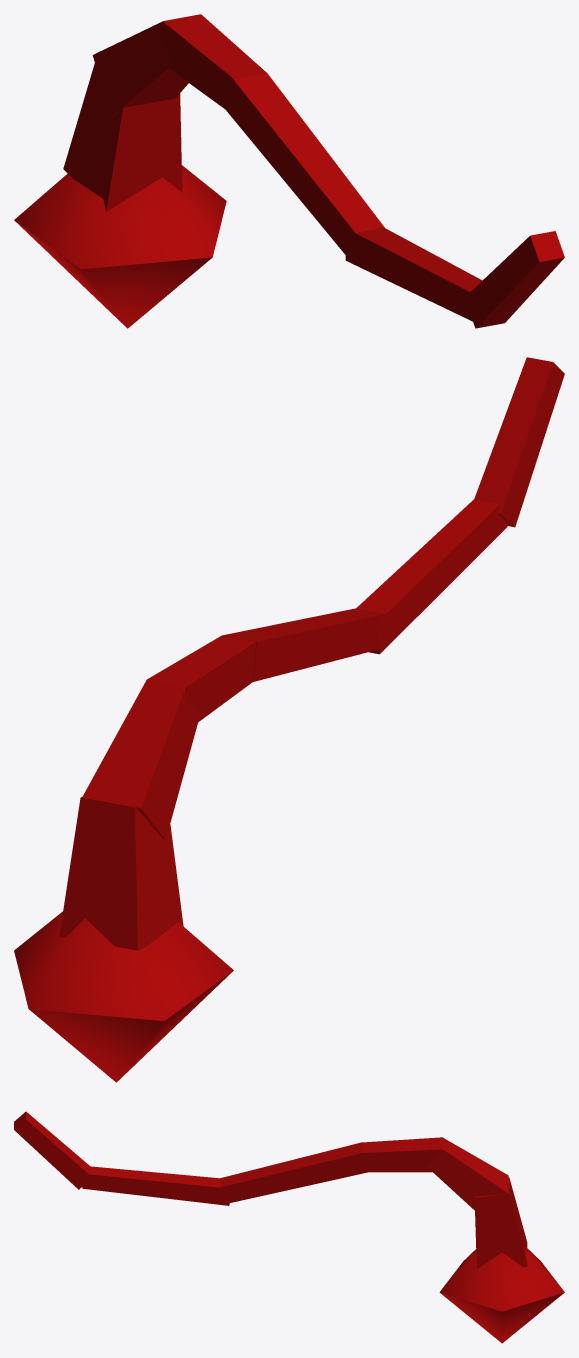
Rendered from SM_Env_Tree_Palm_02_Collision.glb.
3 renders of one model, top to bottom at view 1: azimuth 30°, elevation 25°; view 2: azimuth 150°, elevation 25°; view 3: azimuth 270°, elevation 25°, orthographic. The views are drawn at different scales.
Visible parts, largest first — view 1: SM_Env_Tree_Palm_02_Collision; view 2: SM_Env_Tree_Palm_02_Collision; view 3: SM_Env_Tree_Palm_02_Collision.
Boxes of the visible parts, x1,y1,x2,y2 form: SM_Env_Tree_Palm_02_Collision: (14,14,564,328); SM_Env_Tree_Palm_02_Collision: (14,357,564,1082); SM_Env_Tree_Palm_02_Collision: (14,1111,564,1343).
Bounding box in the file's own units: 1.16 × 2.45 × 5.34.
